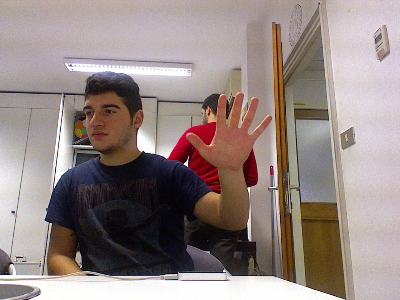布: (184, 90, 273, 171)
